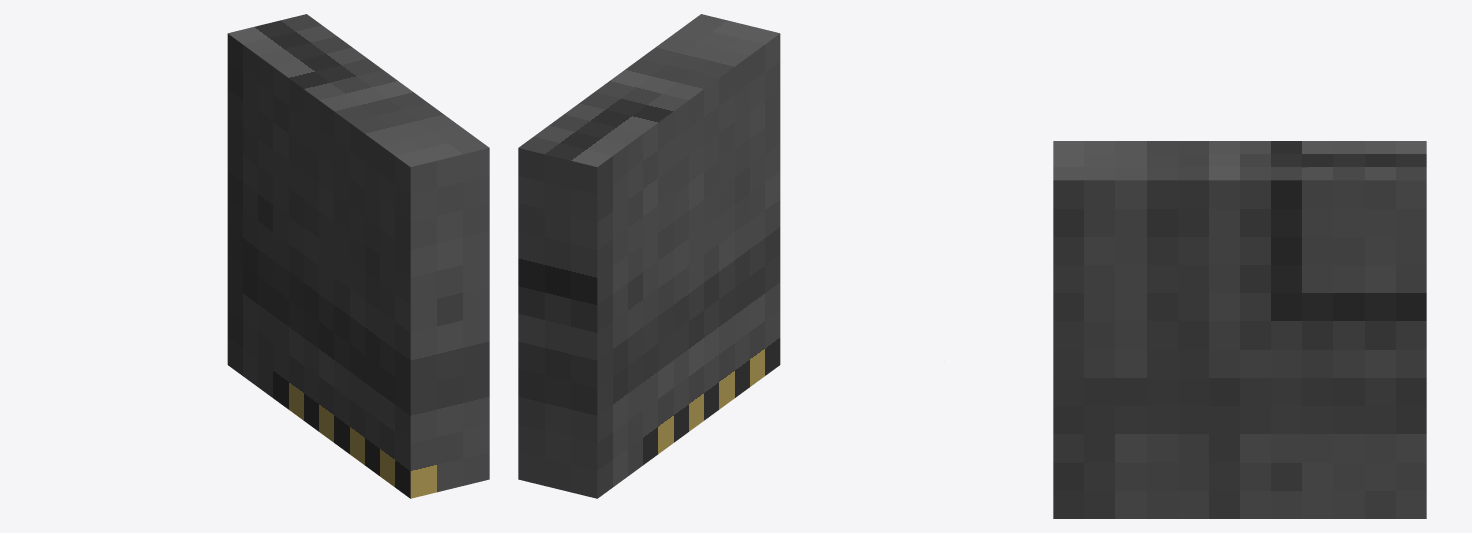
Rendered from electric_engine_moving_frame_6.obj.
The picture shows the model from 3 angles, left to right: view 1: azimuth 30°, elevation 25°; view 2: azimuth 150°, elevation 25°; view 3: azimuth 270°, elevation 25°; orthographic projection. The views are drawn at different scales.
Visible parts, largest first — view 1: piston_10_0; view 2: piston_10_0; view 3: piston_10_0.
Part boxes in pixels (left/top/right/bottom): piston_10_0: left=227, top=14, right=489, bottom=498; piston_10_0: left=518, top=14, right=780, bottom=498; piston_10_0: left=1053, top=141, right=1426, bottom=518.
Size of the model in its own units: 0.6562 by 0.875 by 0.875.
